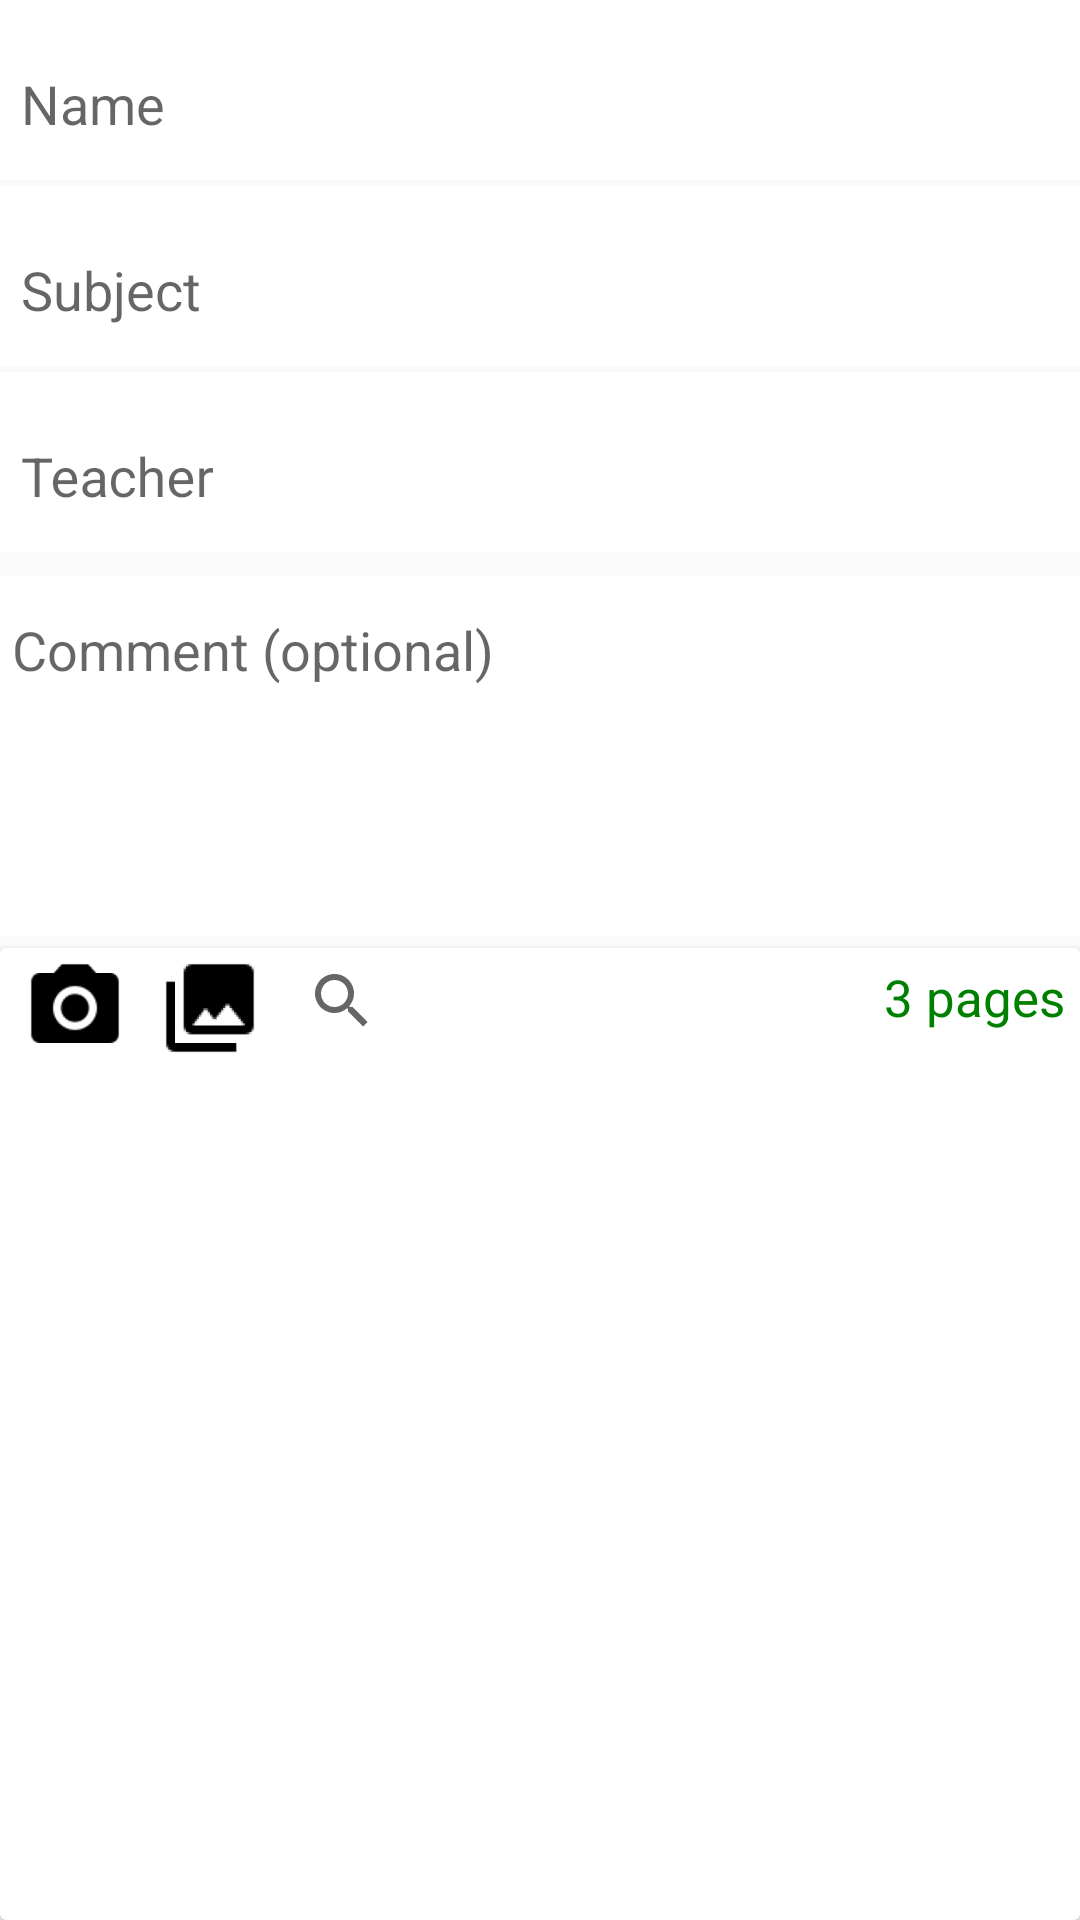

Icon bounding boxes for this 1080 x 1920 phone screenshot, format rect(x1, y1, x2, y2):
cam: rect(31, 964, 119, 1043)
